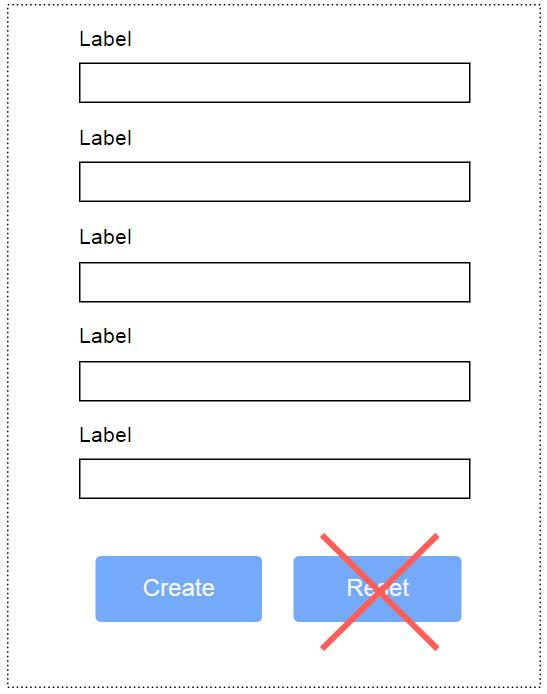button: (86, 548, 275, 632)
textbox: (68, 60, 476, 122)
